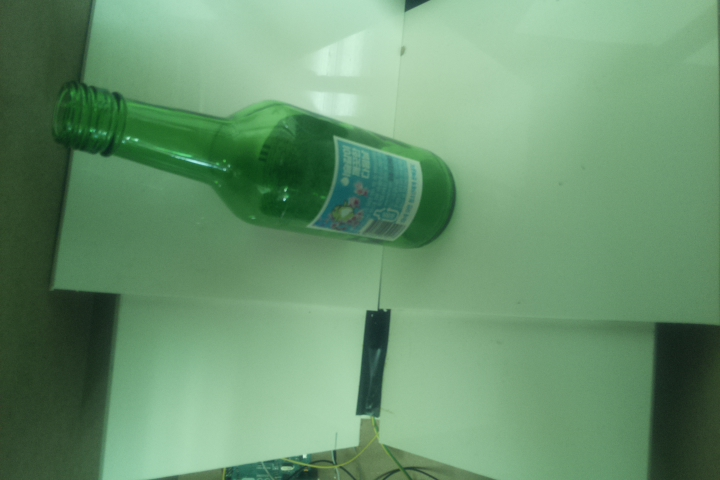soju: (52, 76, 459, 252)
